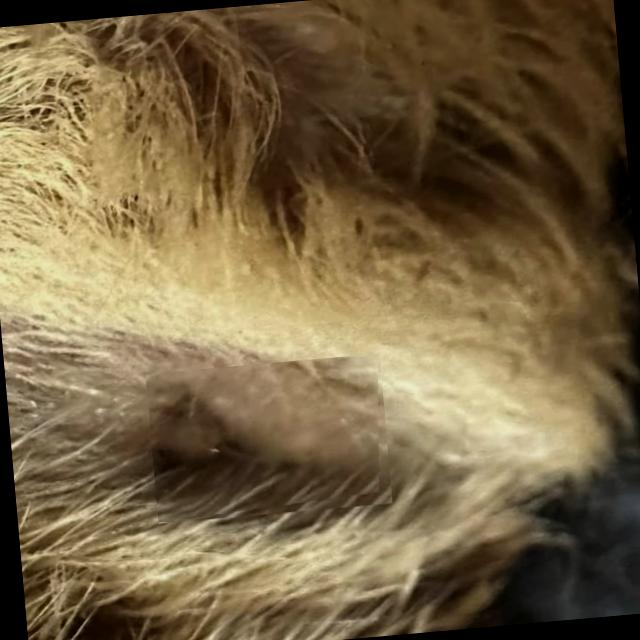fem: (144, 353, 381, 523)
